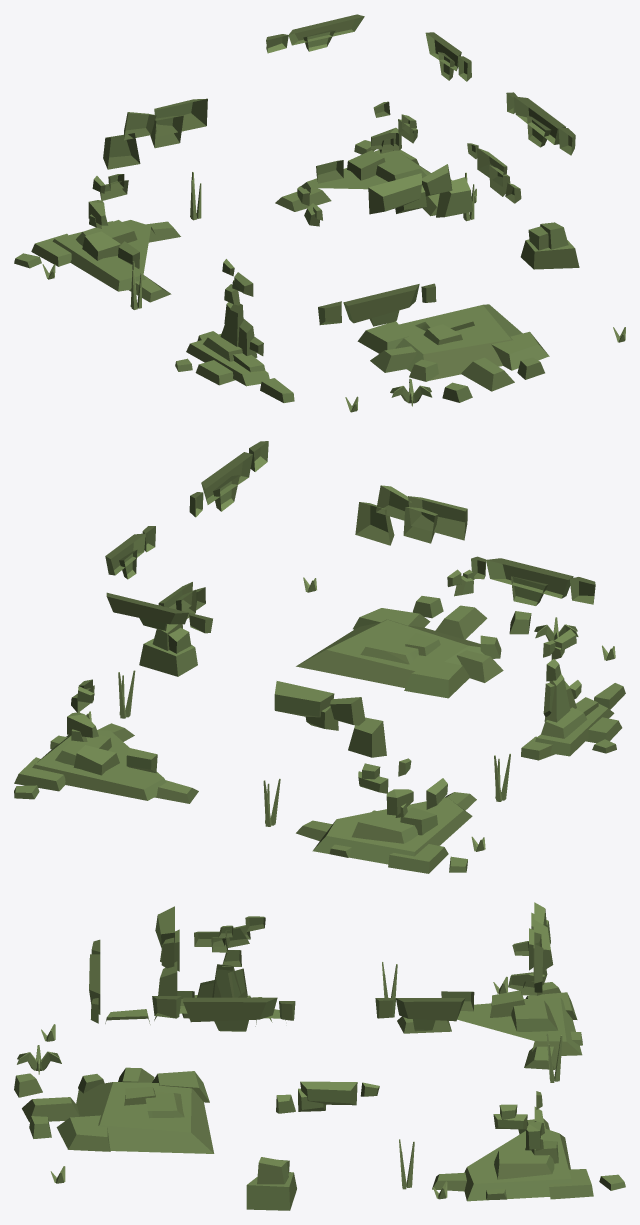
Rendered from SA_Bld_HouseLarge_Growth_04.gltf.
3 views of the same model, one above another, from view 1: azimuth 30°, elevation 25°; view 2: azimuth 150°, elevation 25°; view 3: azimuth 270°, elevation 25° (orthographic). The views are drawn at different scales.
Visible parts, largest first — view 1: SA_Bld_HouseLarge_Growth_04; view 2: SA_Bld_HouseLarge_Growth_04; view 3: SA_Bld_HouseLarge_Growth_04.
Boxes of the visible parts, x1,y1,x2,y2 form: SA_Bld_HouseLarge_Growth_04: (14,14,625,412); SA_Bld_HouseLarge_Growth_04: (14,441,625,873); SA_Bld_HouseLarge_Growth_04: (14,902,625,1210).
Bounding box in the file's own units: 24.91 × 9.77 × 28.98.
Materials: 1 (1 with a texture image).
